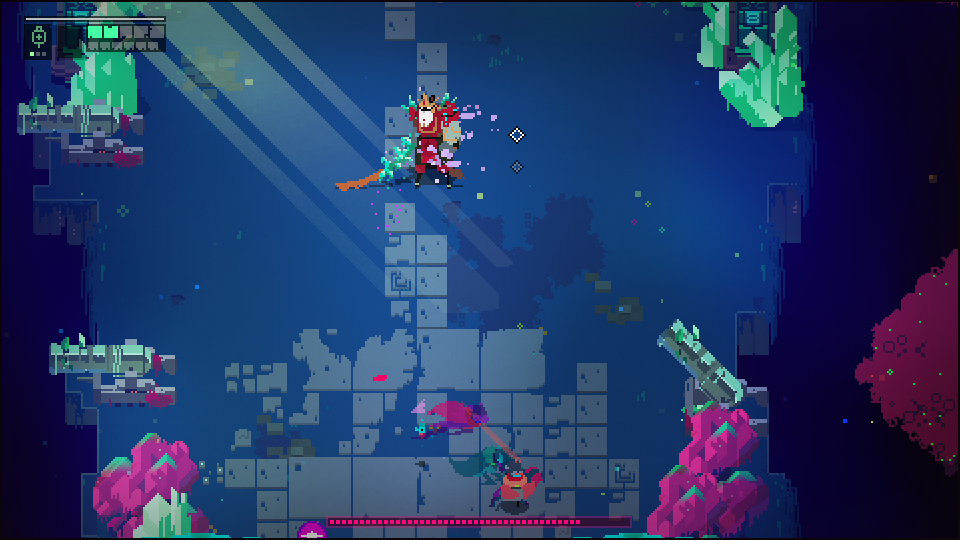hanged_man: (380, 82, 472, 203)
player: (497, 465, 527, 510)
